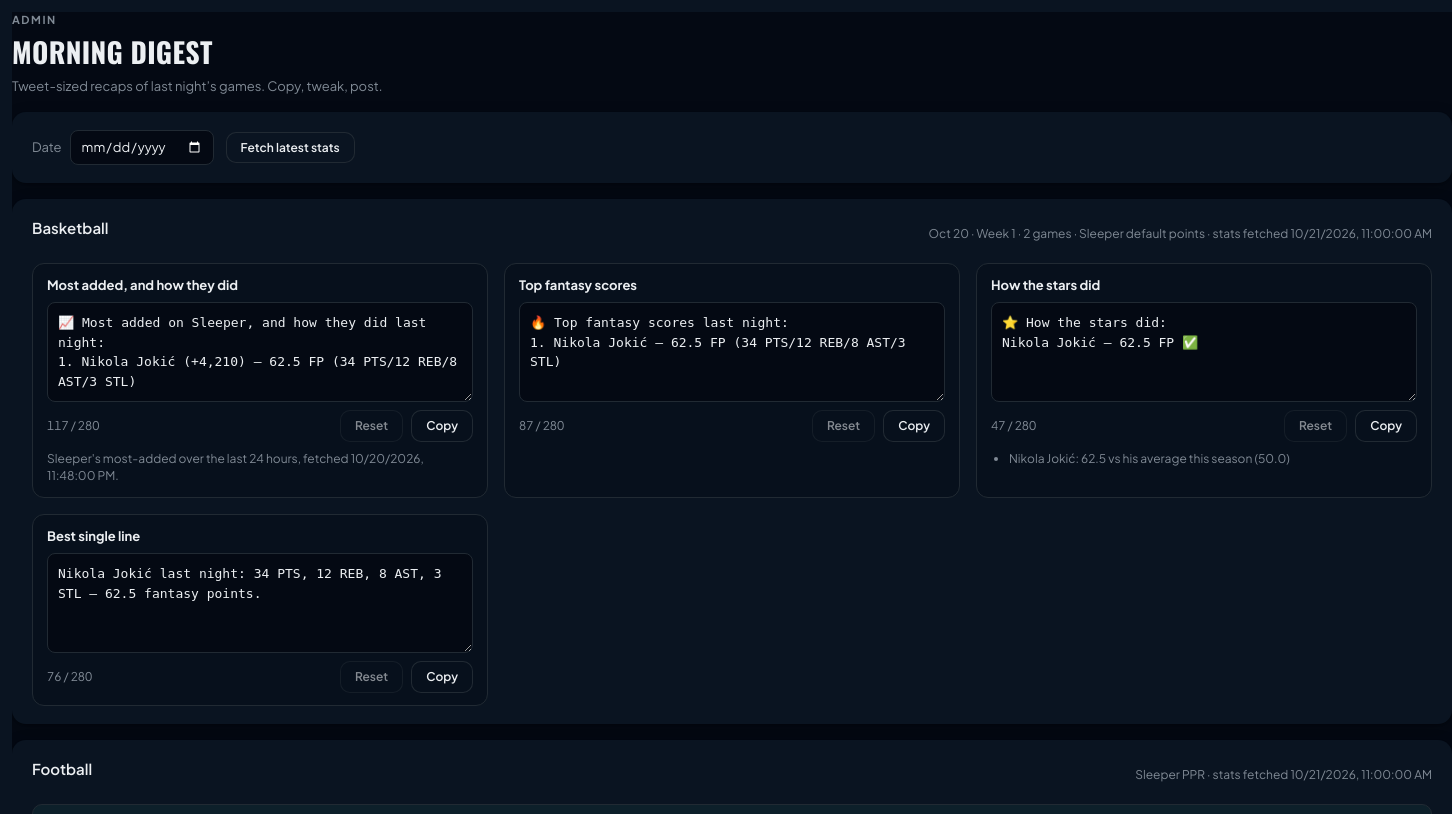
AdminDigest › shows failed weeks and a failed schedule save in the fetch note (S4)
This screenshot has width=1452, height=814.
Click the button "Fetch latest stats" at (290, 148), box [226,132,355,163]
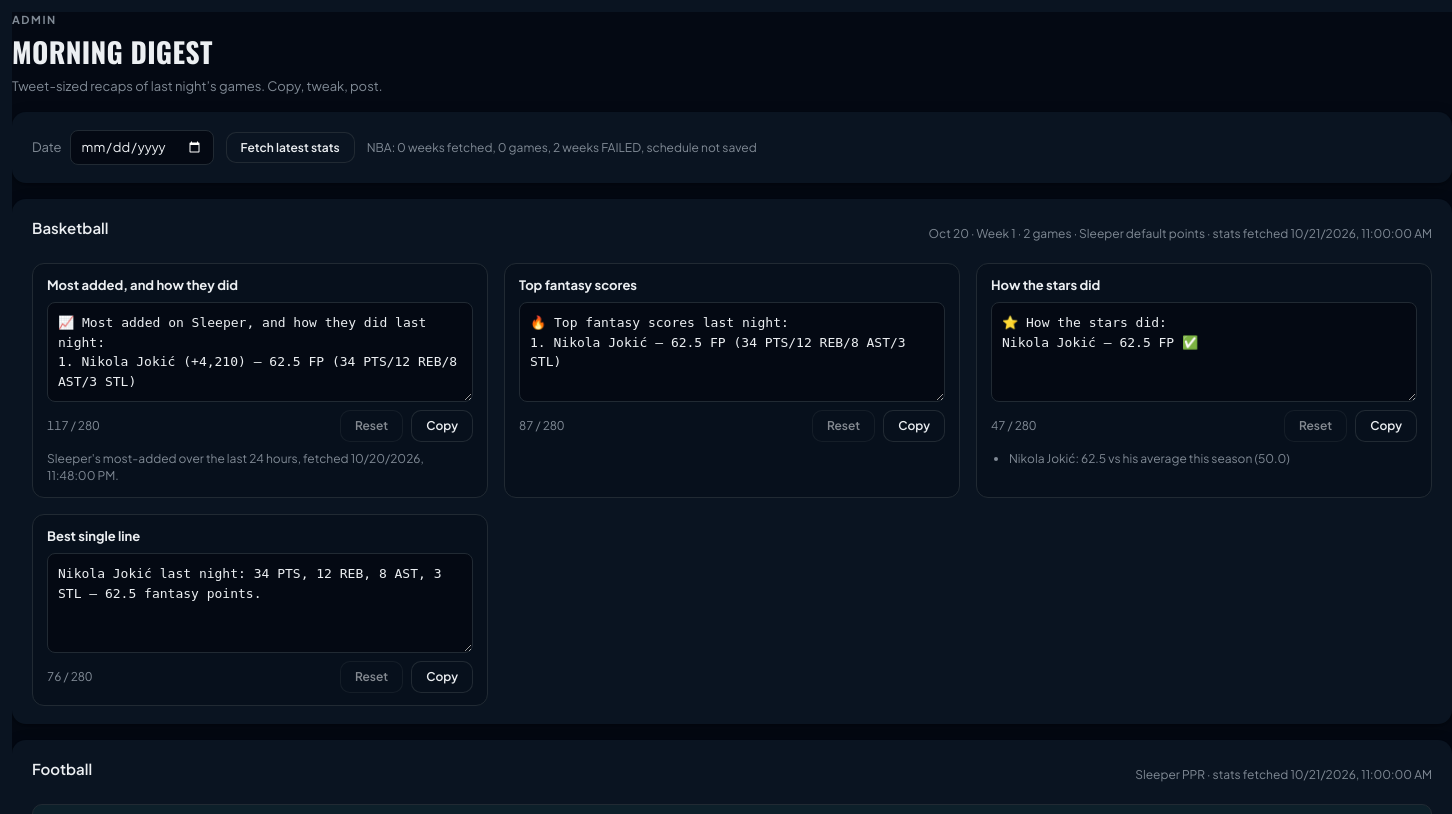
Expected: the text "NBA: 0 weeks fetched, 0 games, 2 weeks FAILED, schedule not saved" is shown, [367,139,757,156]
